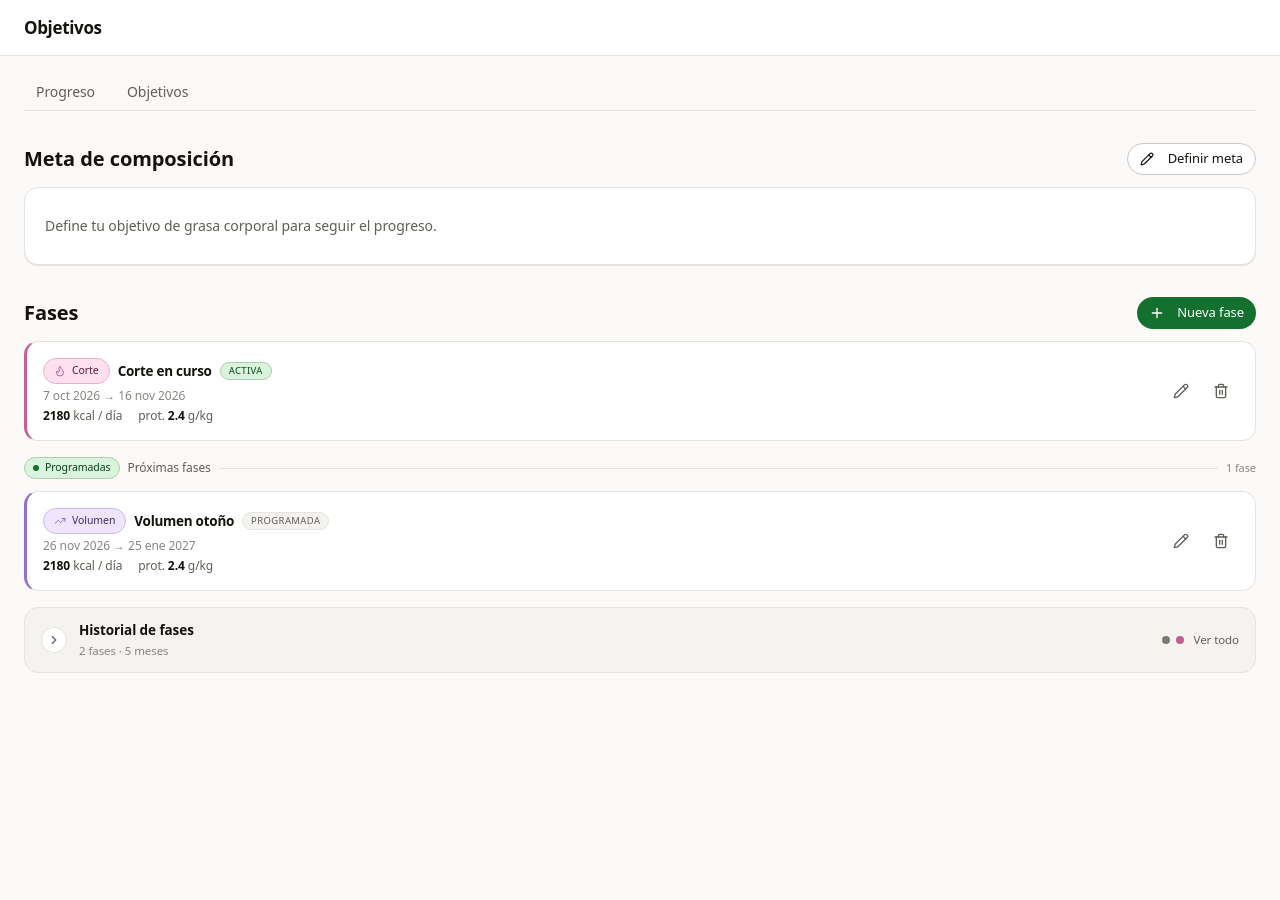
Scenario: ObjetivosPage — Programadas / Historial split (Tier-2) › the bar toggles the history open and closed
The width and height of the screenshot is (1280, 900).
Click the button "Historial de fases 2 fases · 5 meses Ver todo".
click(136, 630)  # box top-left (24, 607), bottom-right (1256, 672)
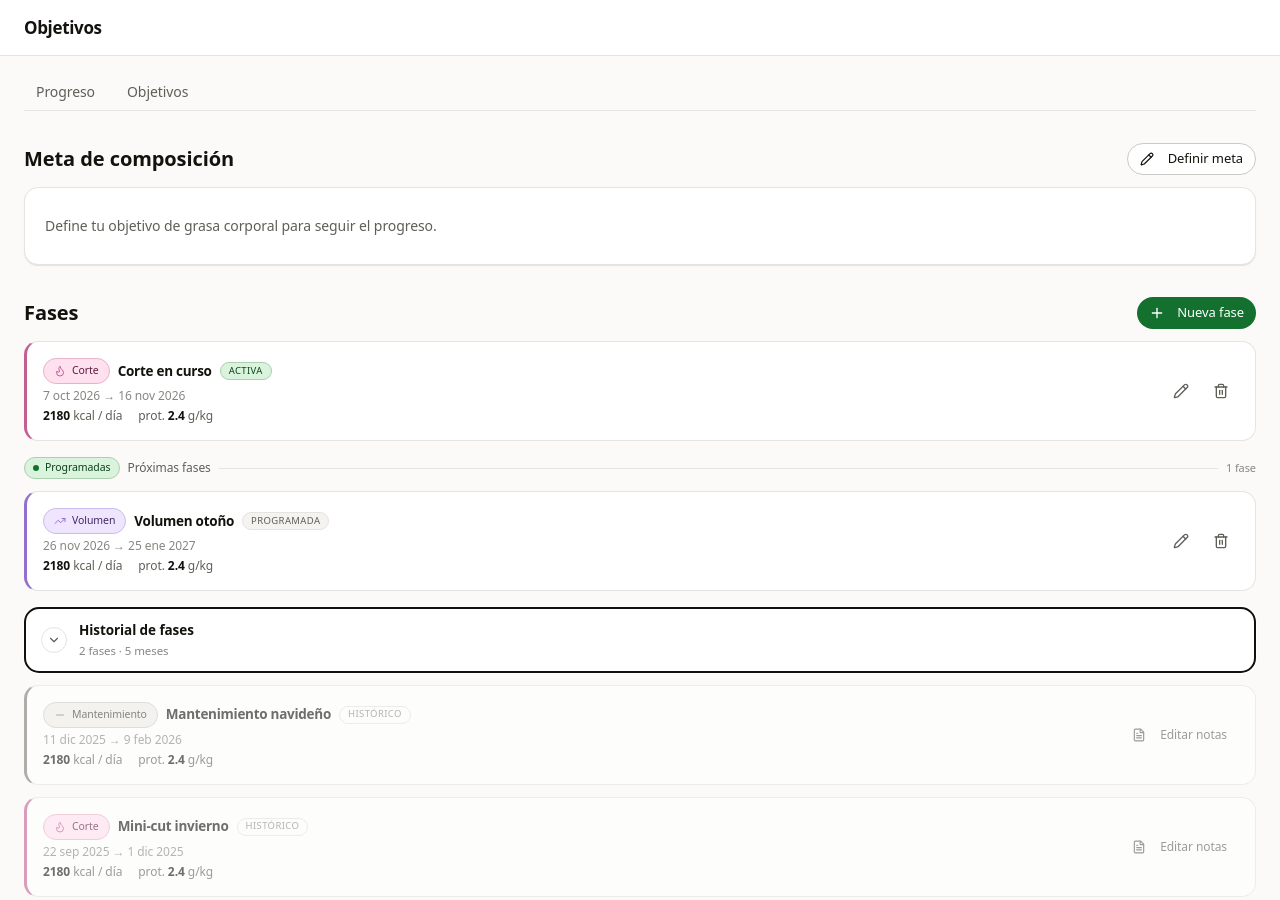
Result: the button "Historial de fases 2 fases · 5 meses" is expanded
Result: the heading "Mini-cut invierno" is shown at top-left (118, 816), bottom-right (228, 837)
Result: the heading "Mantenimiento navideño" is shown at top-left (166, 704), bottom-right (331, 725)
Click the button "Historial de fases 2 fases · 5 meses".
click(136, 630)  # box top-left (24, 607), bottom-right (1256, 672)
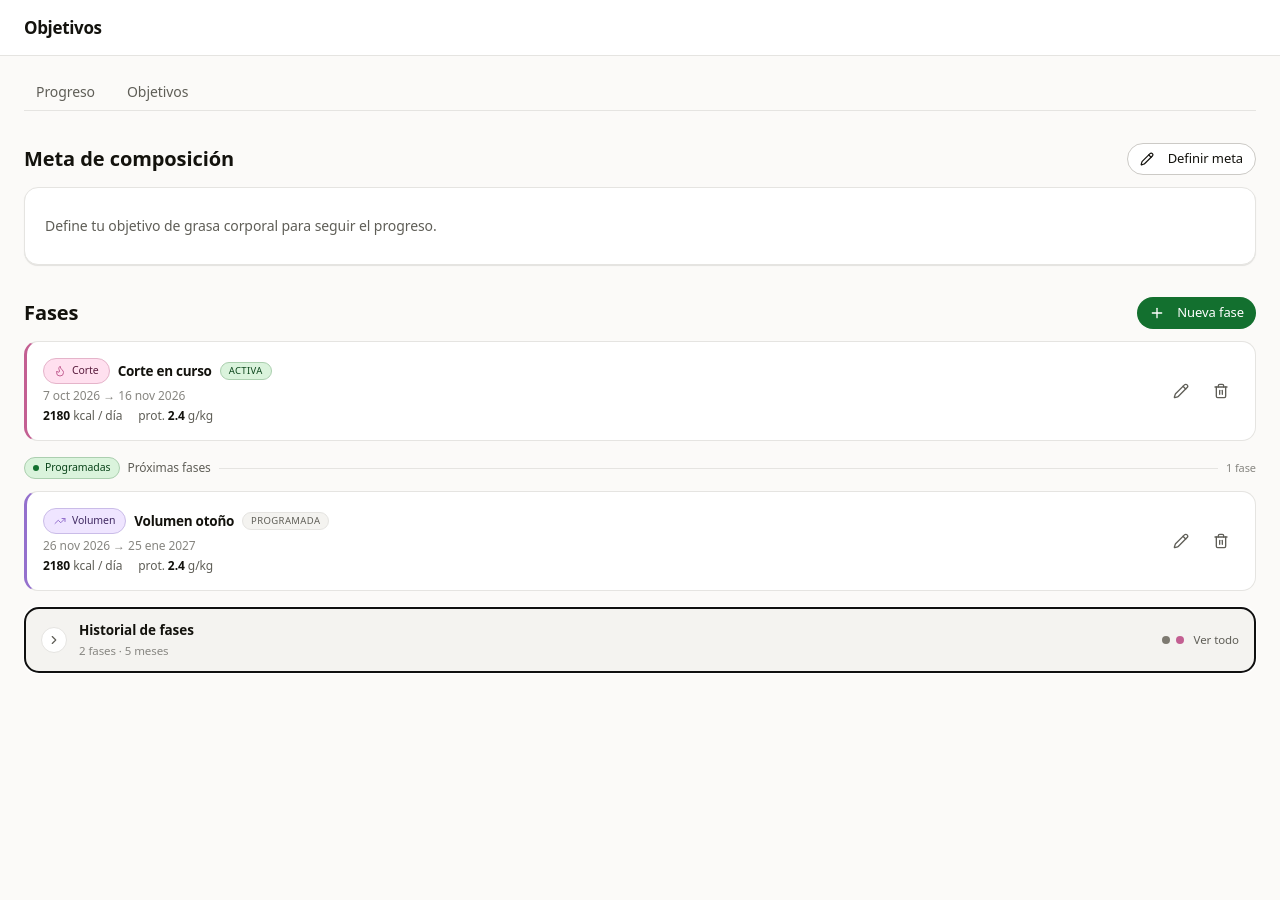
Result: the button "Historial de fases 2 fases · 5 meses Ver todo" is collapsed at top-left (24, 607), bottom-right (1256, 672)
Result: the heading "Mini-cut invierno" is gone
Result: the number of elements with test id "phase-history-dot" is 2 at top-left (1162, 636), bottom-right (1170, 644); top-left (1176, 636), bottom-right (1184, 644)
